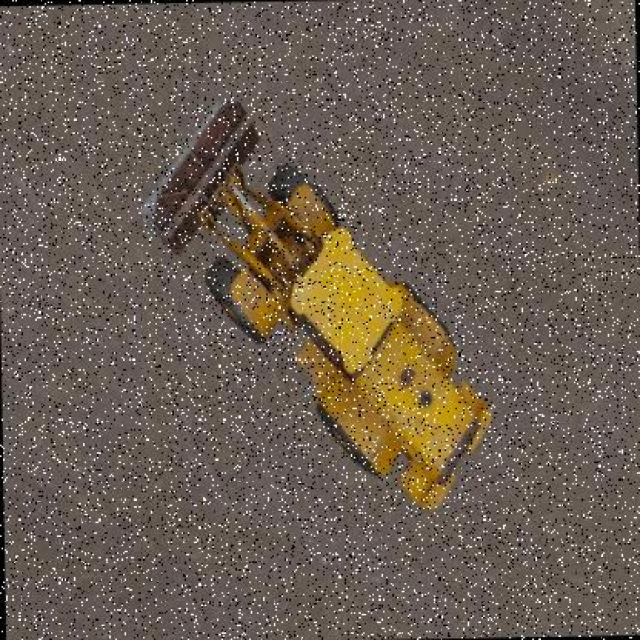buldozerpayloadergrader: (136, 87, 493, 516)
